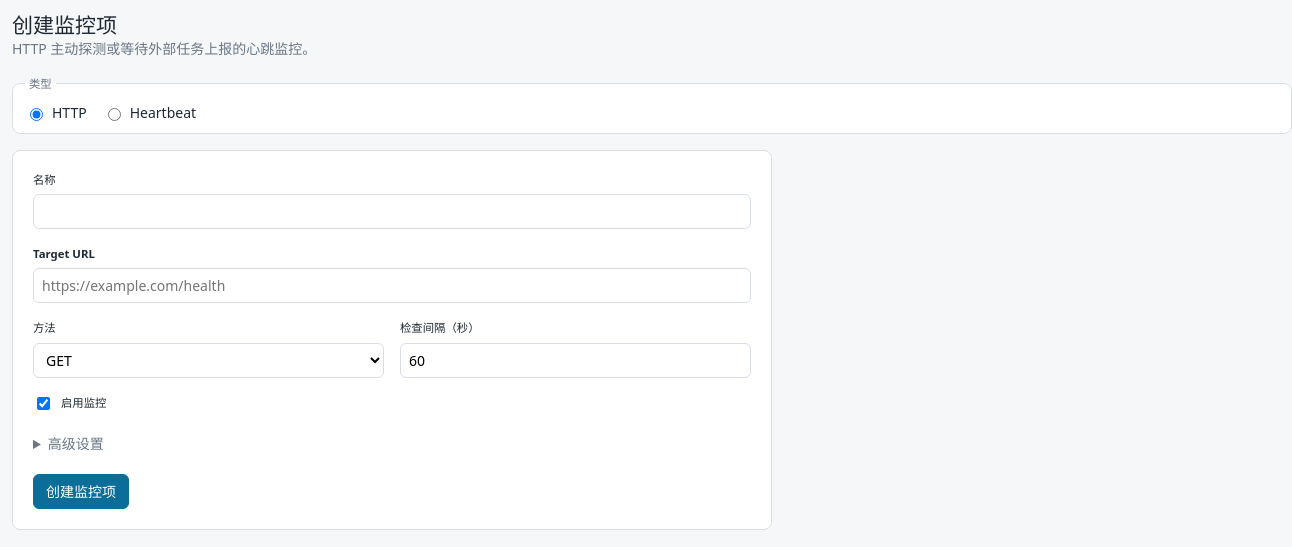
Test: MonitorCreateView › hides the token after the user confirms it is saved
The width and height of the screenshot is (1292, 547).
Click the radio button labelled "Heartbeat" at (114, 114), box [108,108,121,121]
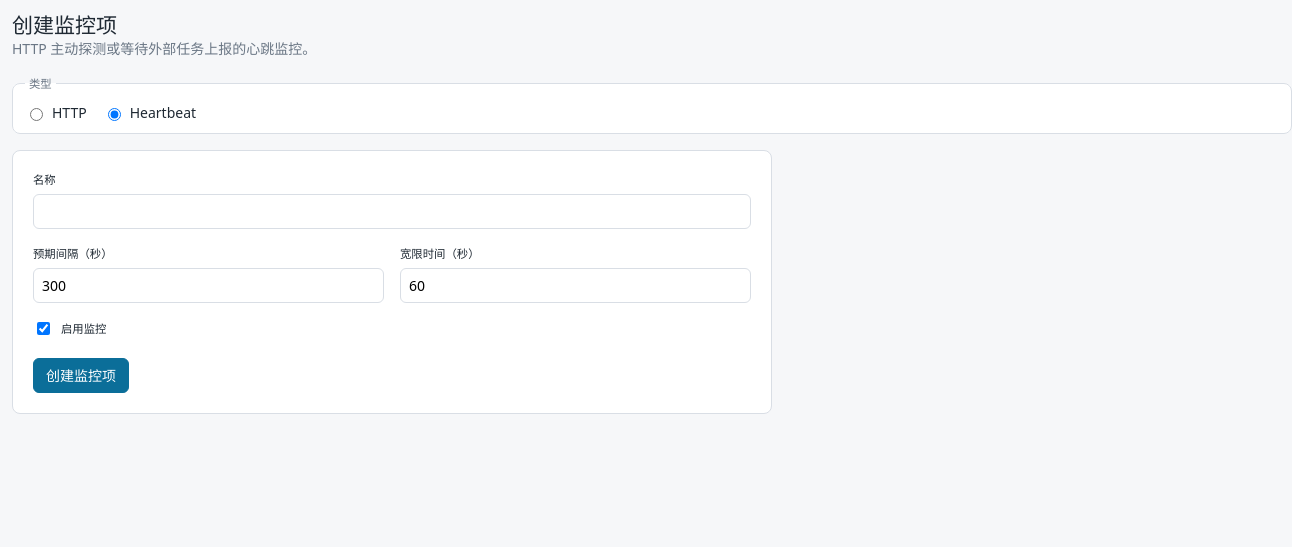
Type "Nightly job" into the field with id "heartbeat-name" at (392, 212), box [33,194,751,229]
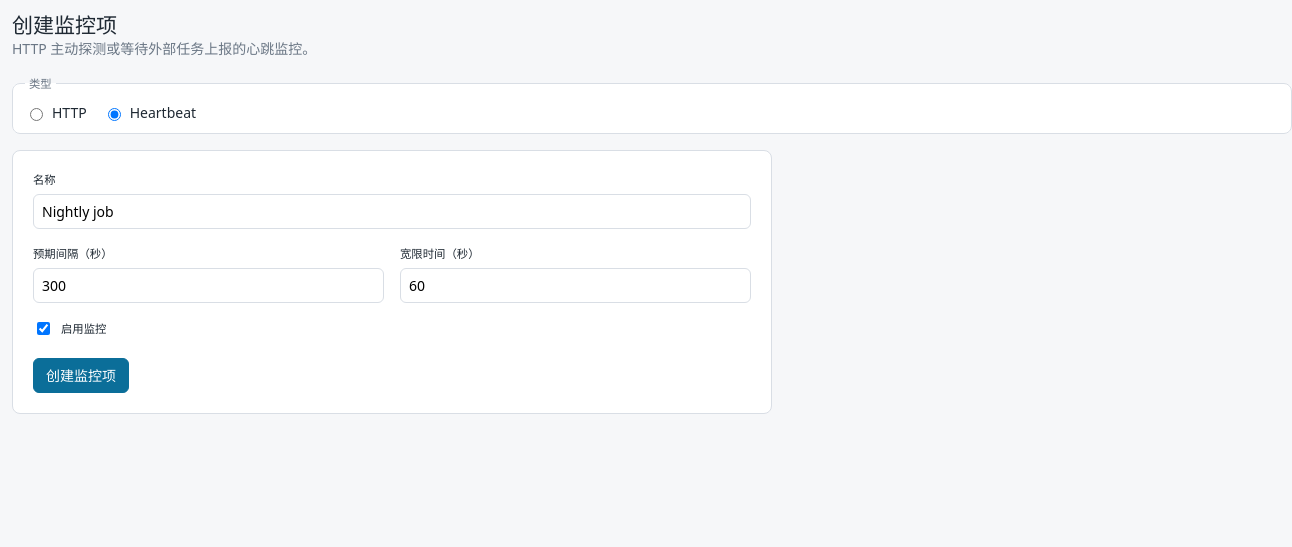
Submit the form, box [12,150,772,414]
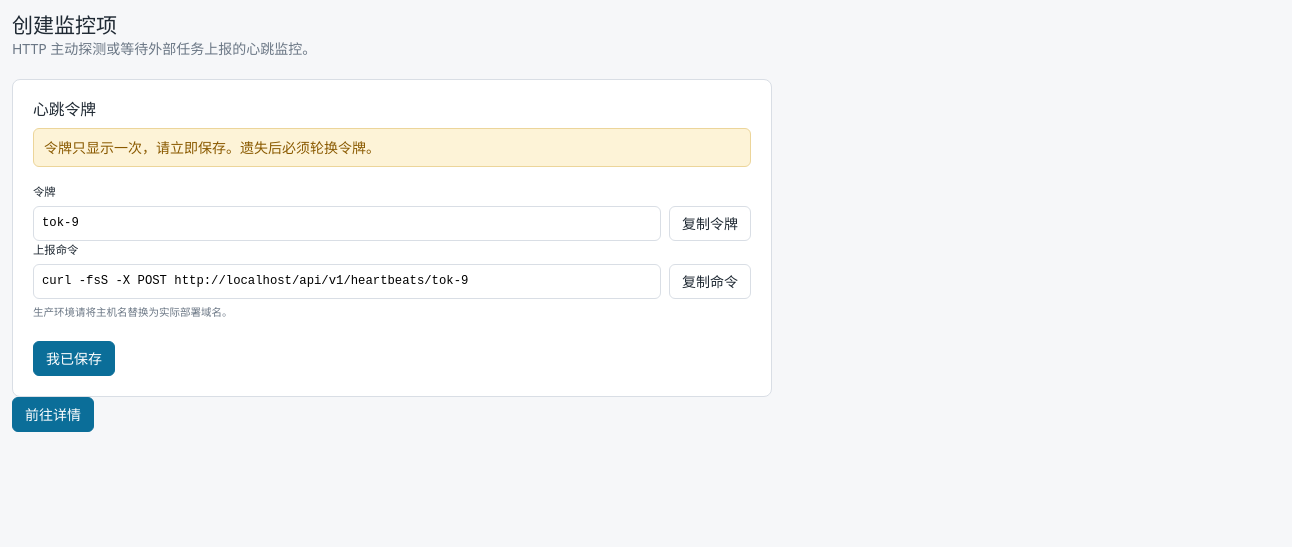
Click the button "我已保存" at (74, 358), box [33,341,115,376]
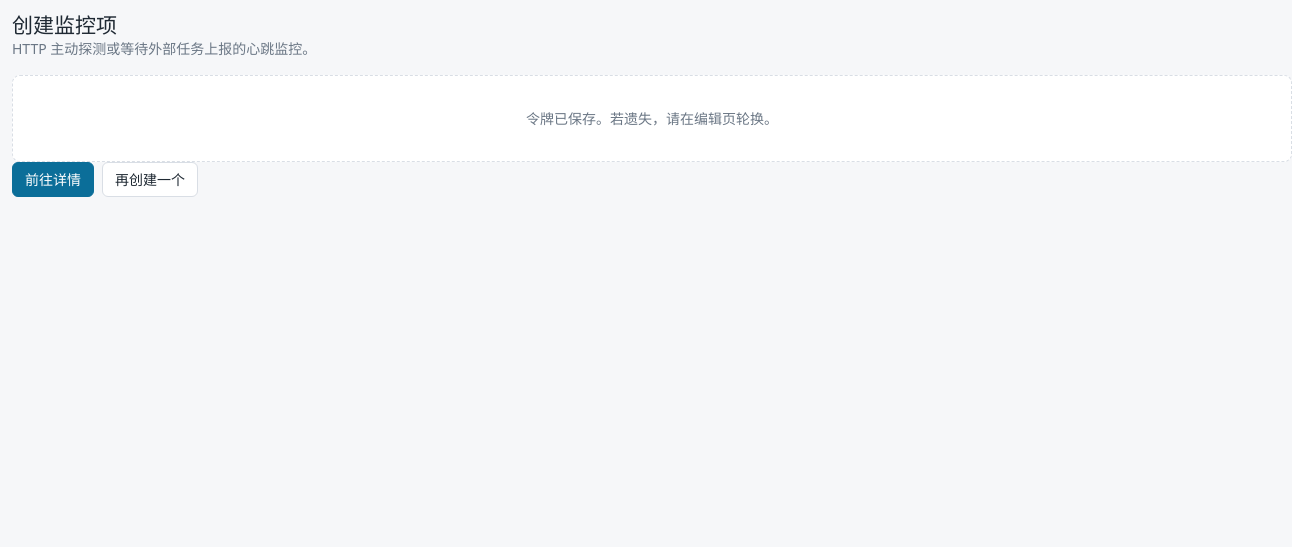
Check: the text "令牌已保存" is shown, box [526,109,778,128]
Check: the button "再创建一个" is shown, box [102,162,198,197]
